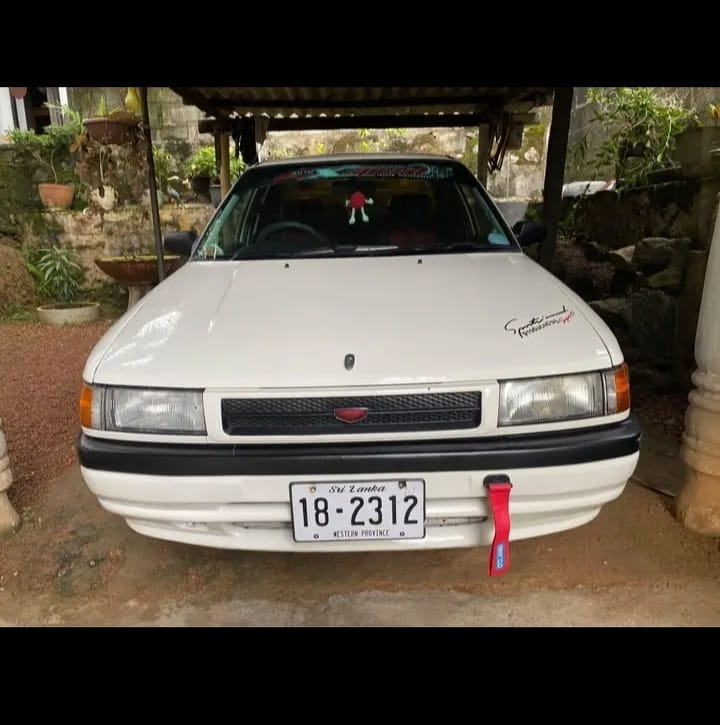number_plate: (292, 479, 427, 542)
